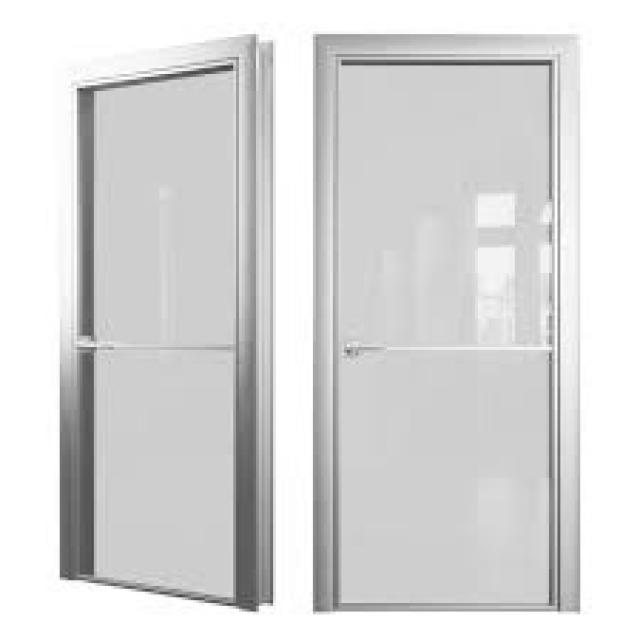door: (60, 36, 270, 610)
